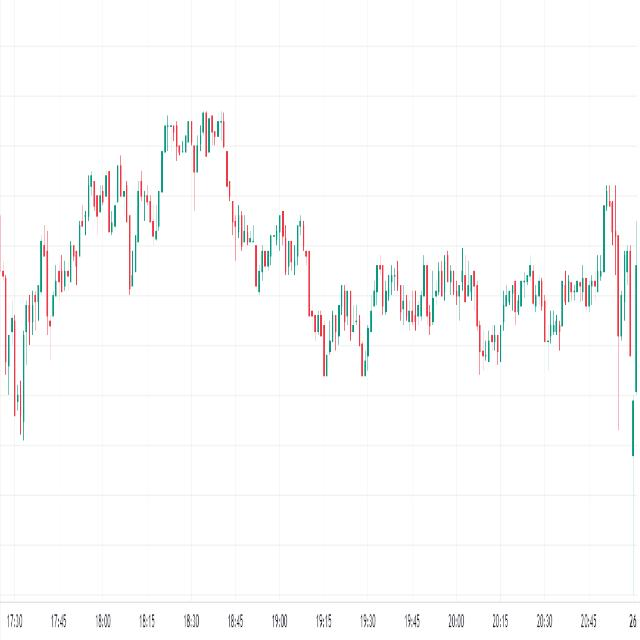Double-Bottom: (304, 261, 382, 391)
